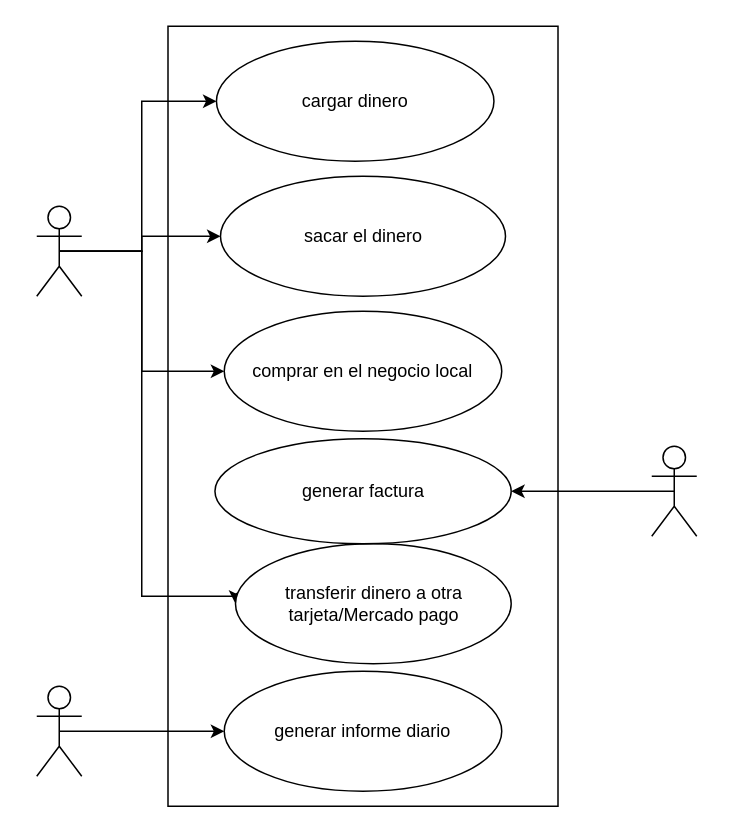
Image size: 744x834. Some labels were removed from this diagram. Each missing label, with the box of its shape:
cliente: (35, 685, 82, 776)
Facturador: (650, 445, 697, 536)
ususario: (35, 205, 82, 296)
